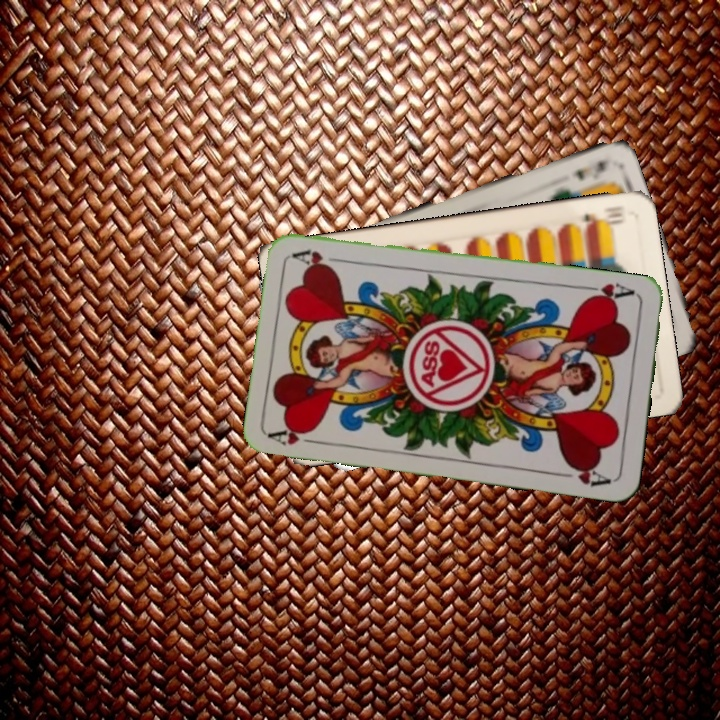E10: (580, 208, 628, 230)
EK: (568, 156, 611, 183)
HA: (267, 421, 326, 448), (580, 279, 637, 306)
